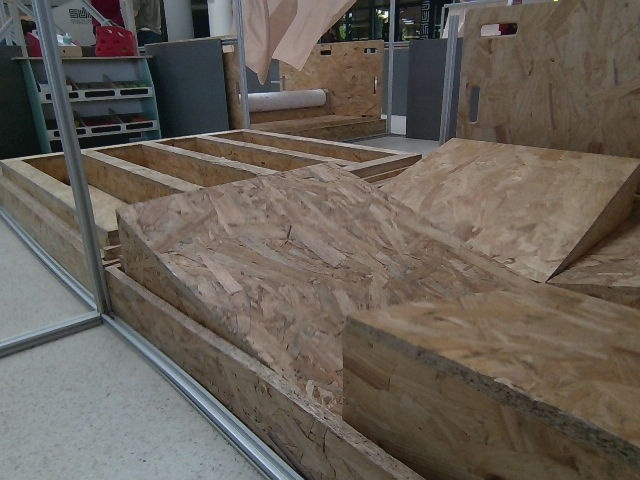curtain: (224, 0, 371, 120)
